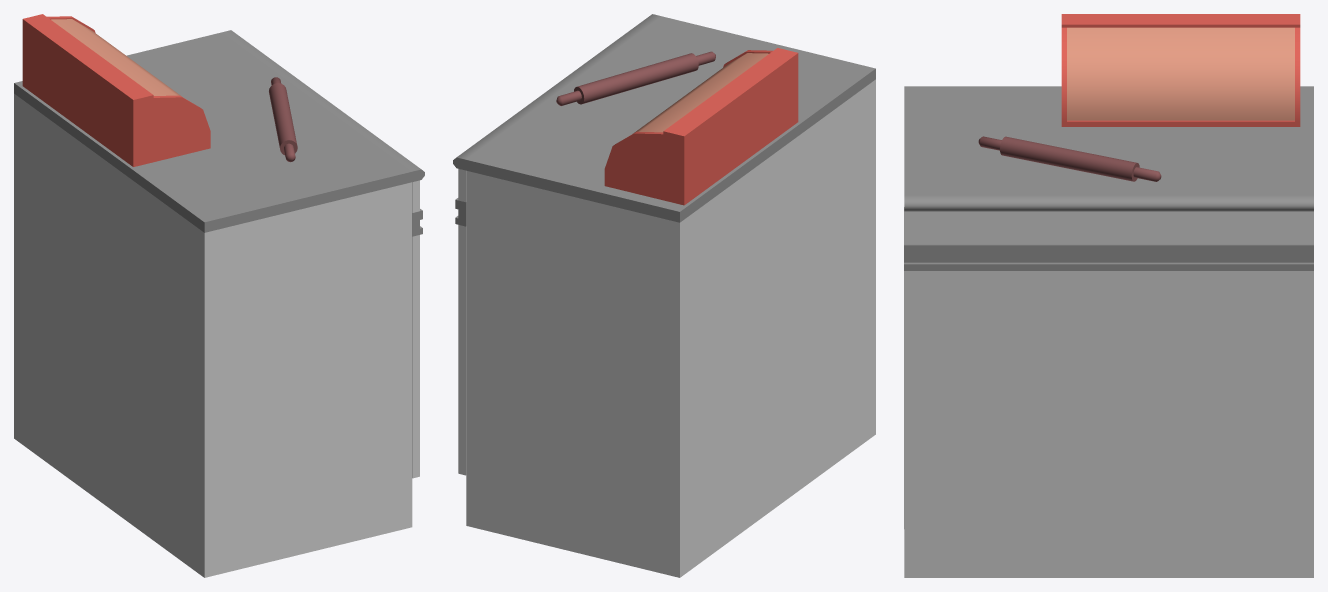
The model's file is CupBoardH.fbx.
The picture shows the model from 3 angles, left to right: view 1: azimuth 30°, elevation 25°; view 2: azimuth 150°, elevation 25°; view 3: azimuth 270°, elevation 25°; orthographic projection. The views are drawn at different scales.
Visible parts, largest first — view 1: CupBoardH, BreadBox, RollingPin; view 2: CupBoardH, BreadBox, RollingPin; view 3: CupBoardH, BreadBox, RollingPin.
Boxes of the visible parts, box(x1,y1,x2,y2) form: CupBoardH: box(14, 30, 424, 577); BreadBox: box(22, 14, 210, 166); RollingPin: box(269, 77, 297, 162); CupBoardH: box(453, 14, 875, 577); BreadBox: box(604, 48, 798, 205); RollingPin: box(556, 51, 715, 105); CupBoardH: box(904, 86, 1313, 577); BreadBox: box(1061, 14, 1300, 126); RollingPin: box(978, 136, 1161, 181).
Size of the model in its own units: 51.11 by 93.95 by 76.52.
